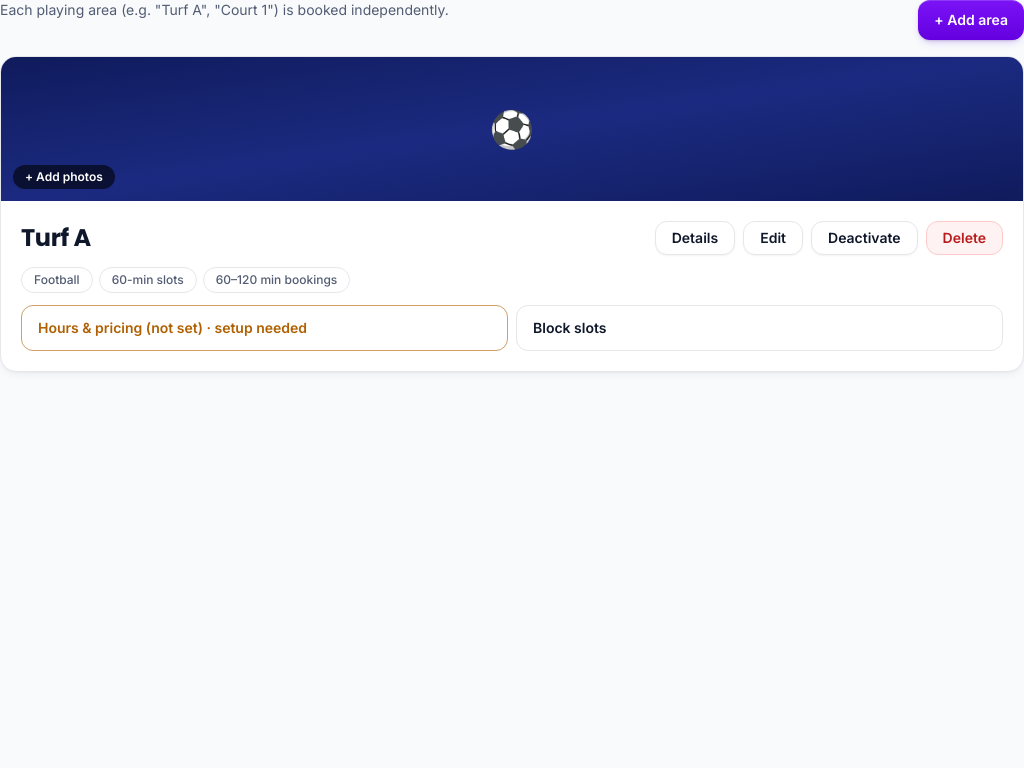
owner: Activate and Deactivate › opens a confirmation pop-up first, and only deactivates after the owner confirms
Click the button "Deactivate". click: {"x": 864, "y": 238}
box: [811, 221, 918, 255]
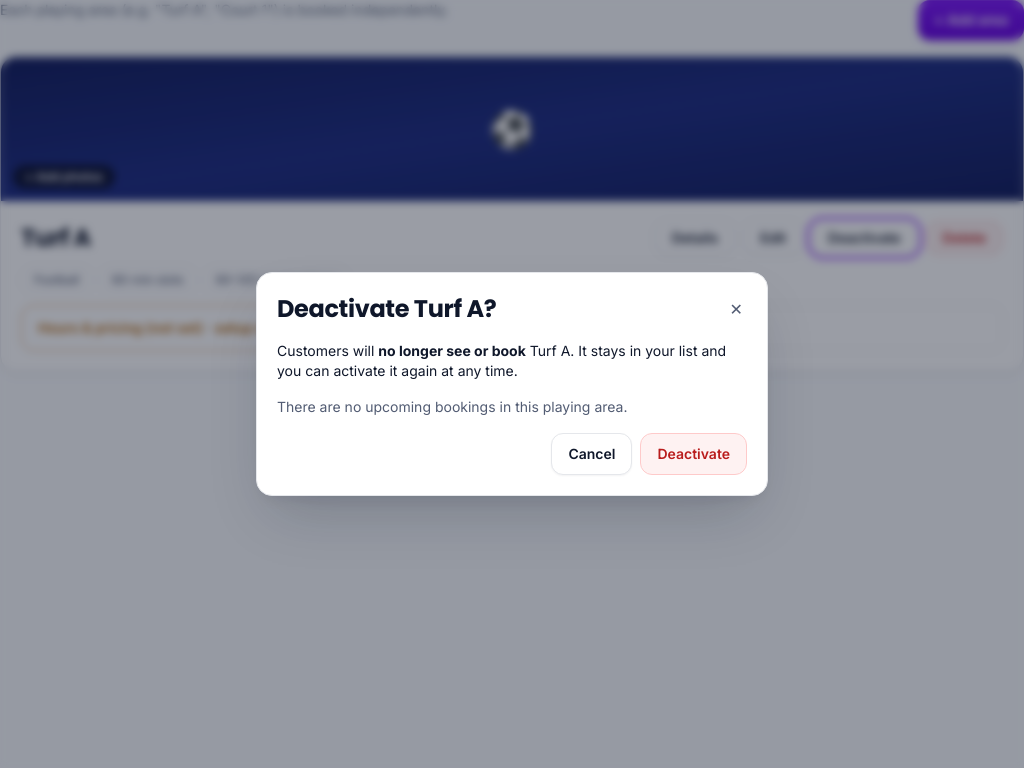
Check: the dialog "Deactivate Turf A?" shows "no longer see or book", box [378, 342, 526, 359]
Check: the text "There are no upcoming bookings in this playing area." is shown, box [277, 398, 628, 415]
Click the button "Deactivate". click: {"x": 694, "y": 454}
box: [640, 433, 747, 475]
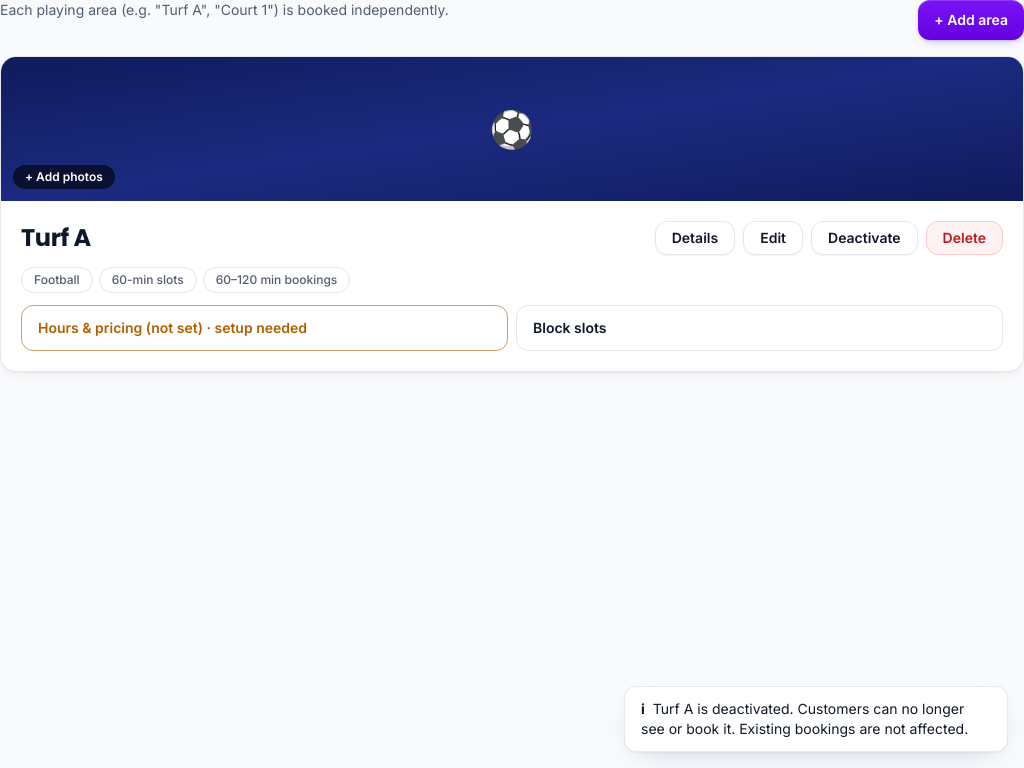
Check: the text "Turf A is deactivated. Customers can no longer see or book it" is shown, box [641, 700, 968, 737]
Check: the heading "Deactivate Turf A?" is gone
